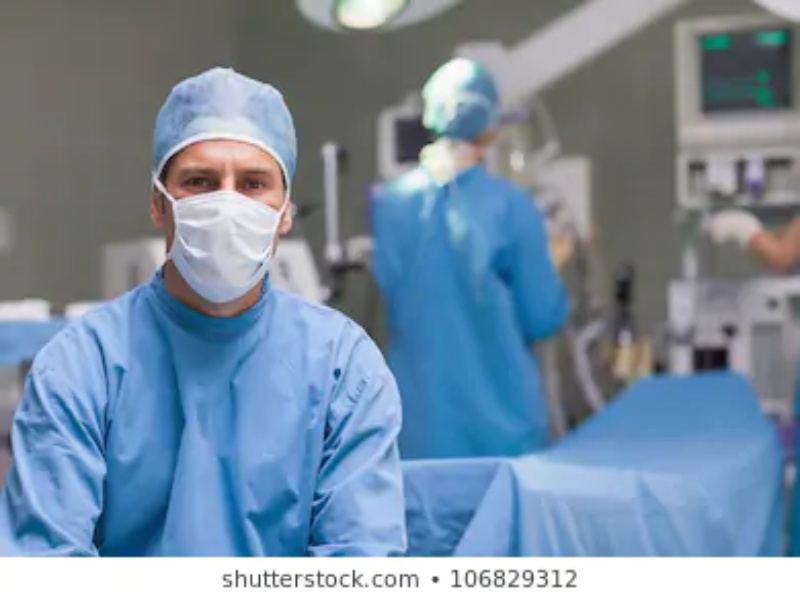ManaoArotava: (134, 82, 317, 344)
